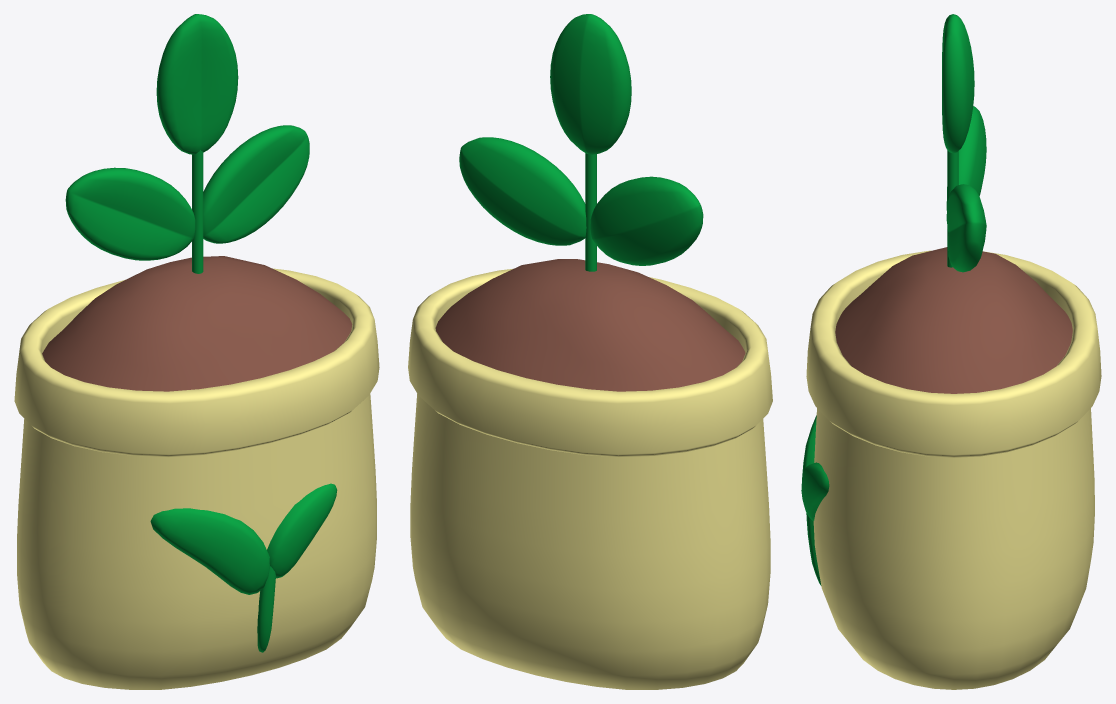
File: Farm_15_Bag_with_Plant_1.glb
The picture shows the model from 3 angles, left to right: view 1: azimuth 30°, elevation 25°; view 2: azimuth 150°, elevation 25°; view 3: azimuth 270°, elevation 25°; orthographic projection. The views are drawn at different scales.
Parts seen in each view (by area): view 1: Farm_15_Bag_with_Plant_1; view 2: Farm_15_Bag_with_Plant_1; view 3: Farm_15_Bag_with_Plant_1.
Part boxes in pixels (x1=…): Farm_15_Bag_with_Plant_1: x1=14, y1=14, x2=379, y2=689; Farm_15_Bag_with_Plant_1: x1=408, y1=14, x2=772, y2=689; Farm_15_Bag_with_Plant_1: x1=801, y1=14, x2=1101, y2=689.
Size of the model in its own units: 0.7053 by 1.28 by 0.5653.
Materials: 1 (1 with a texture image).
